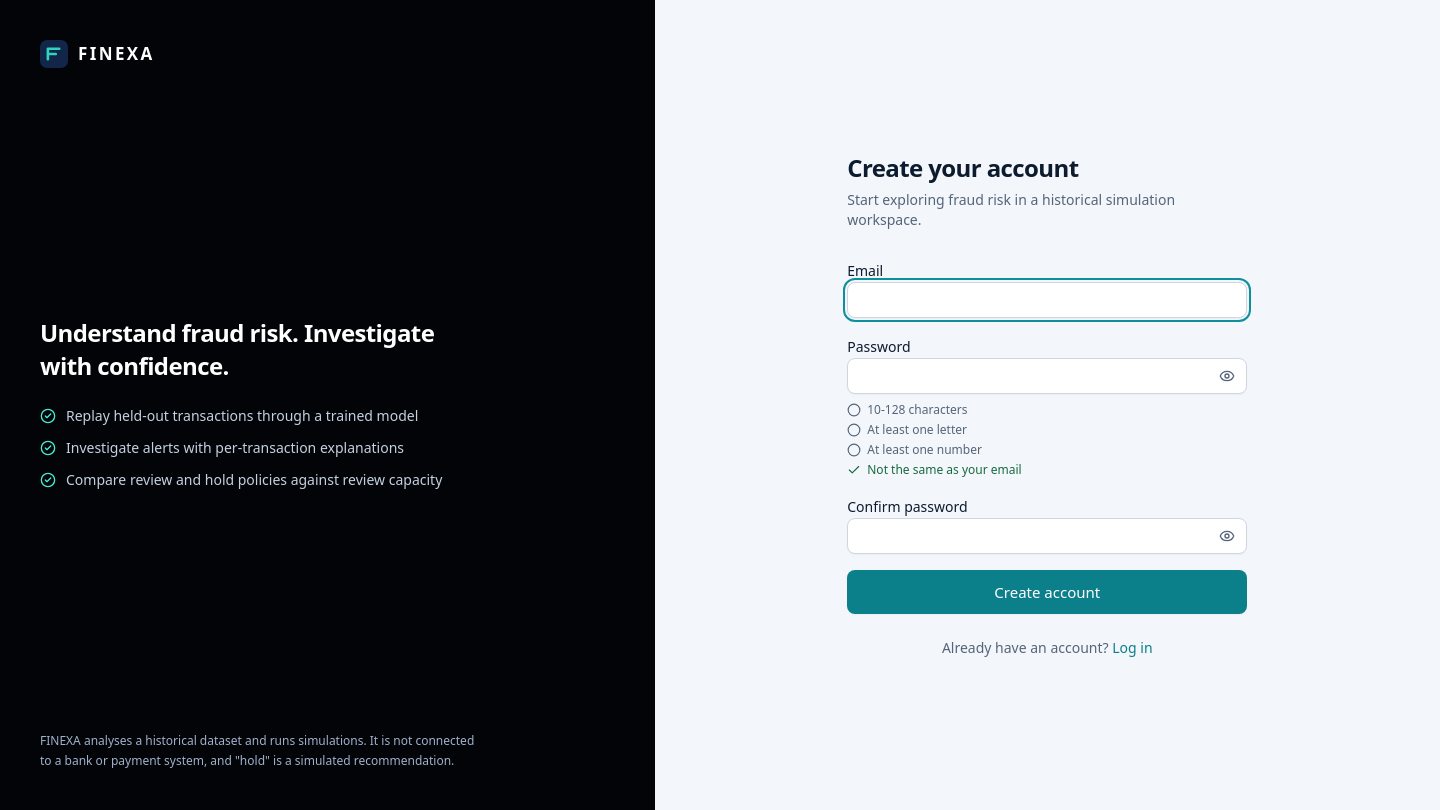
signup form › maps a duplicate email to the email field, with a link to log in
Type "ana@example.com" into the field labelled "Email" at (1047, 300), box [847,282,1247,318]
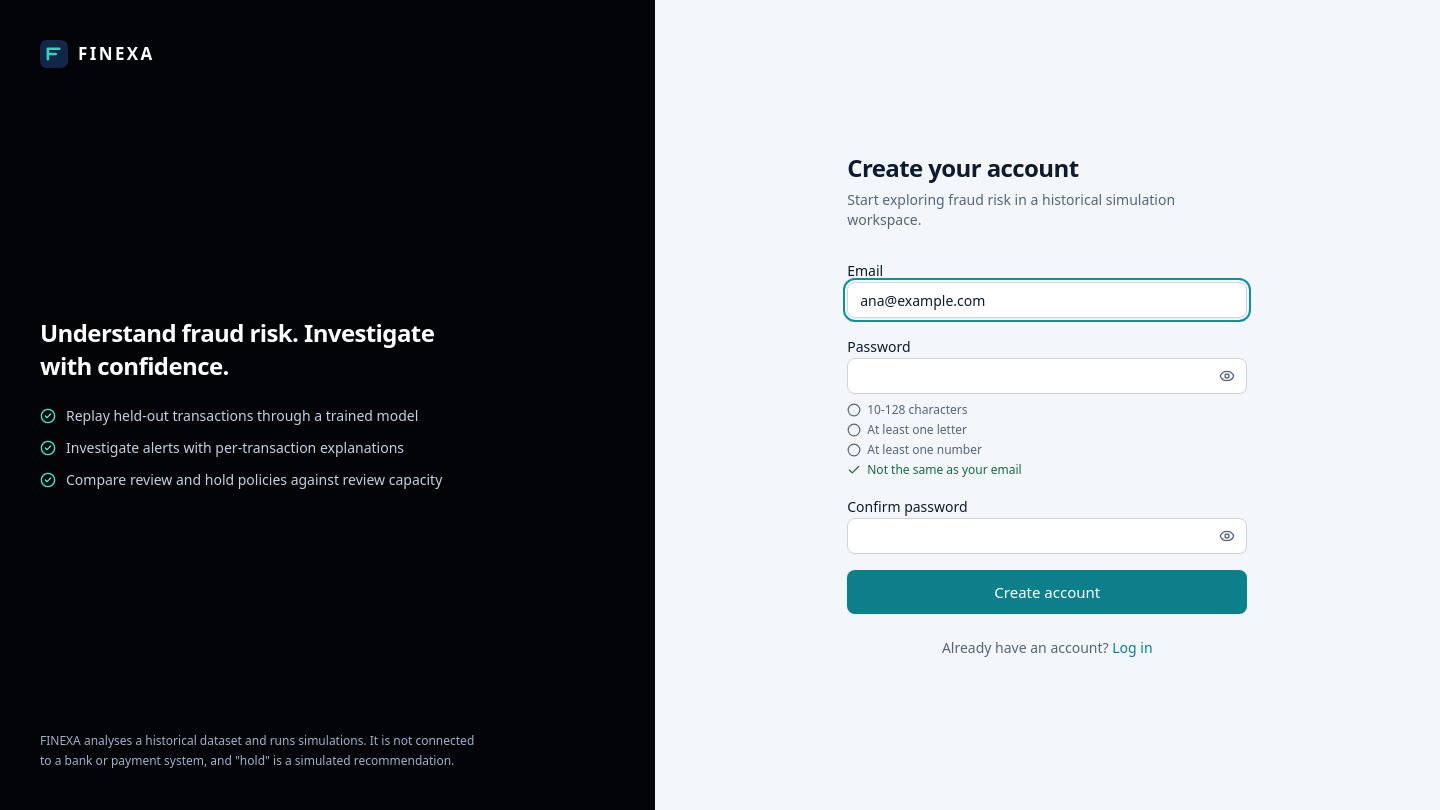
Type "correct horse 42" into the password field labelled "Password" at (1047, 376), box [847,358,1247,394]
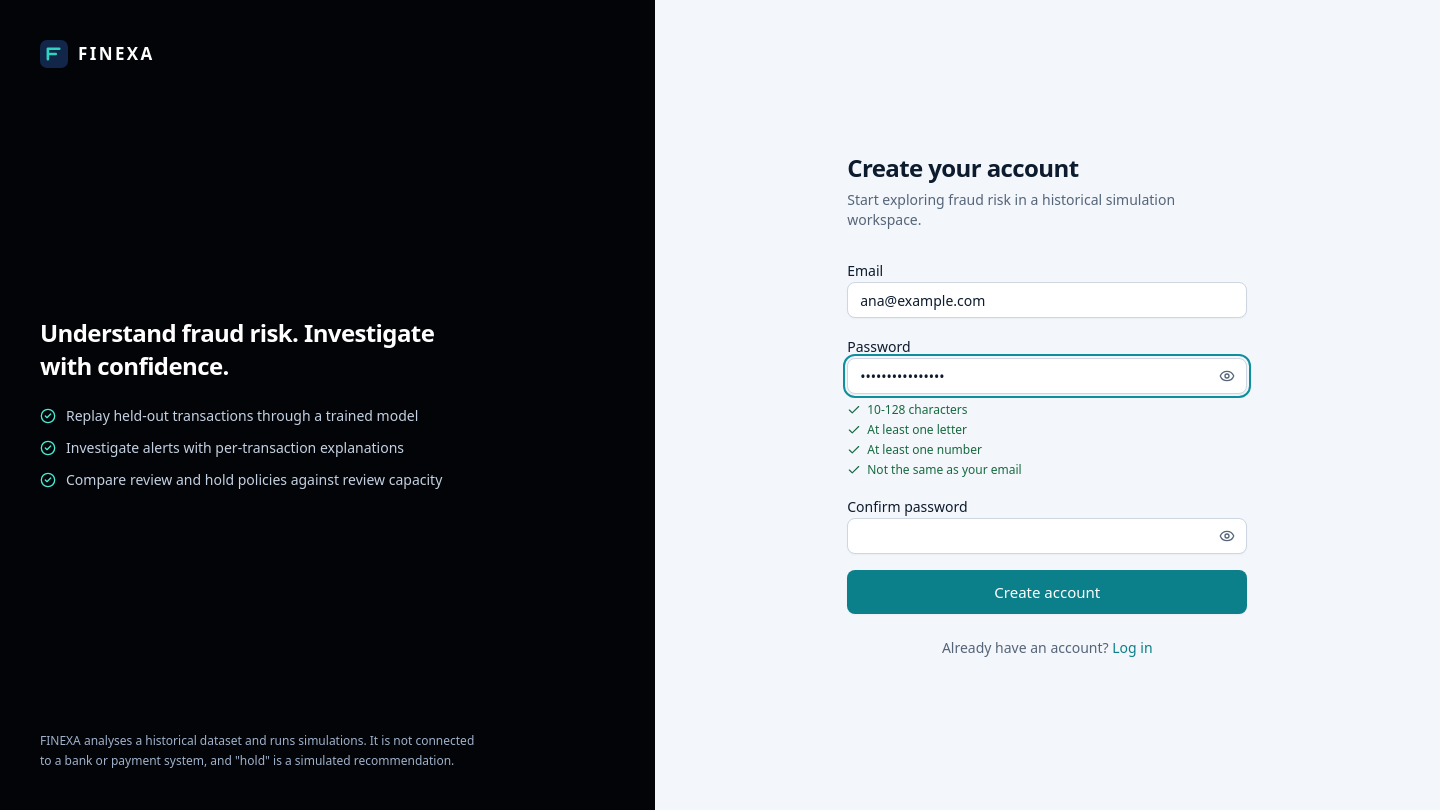
Type "correct horse 42" into the password field labelled "Confirm password" at (1047, 536), box [847,518,1247,554]
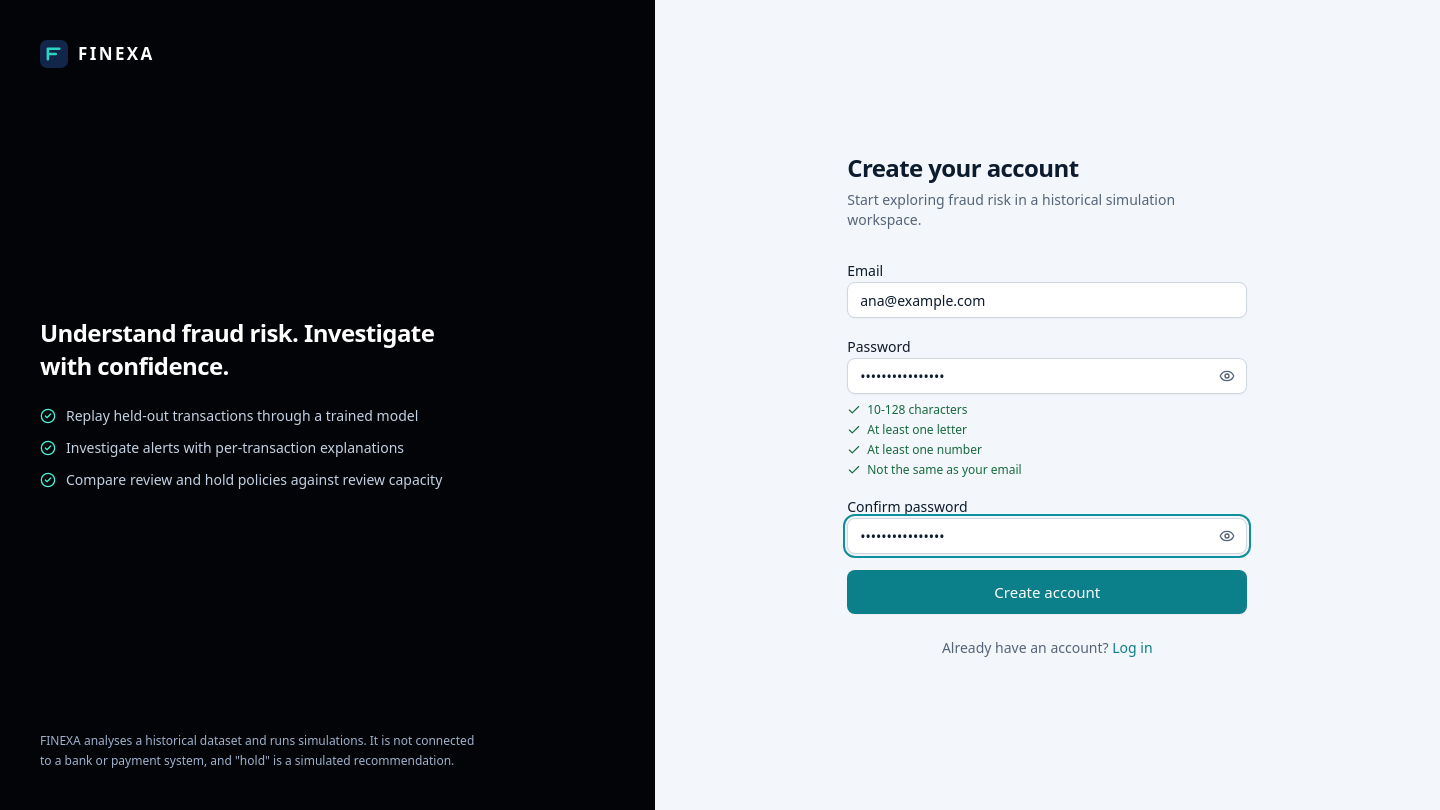
Click the button "Create account" at (1047, 592), box [847,570,1247,614]
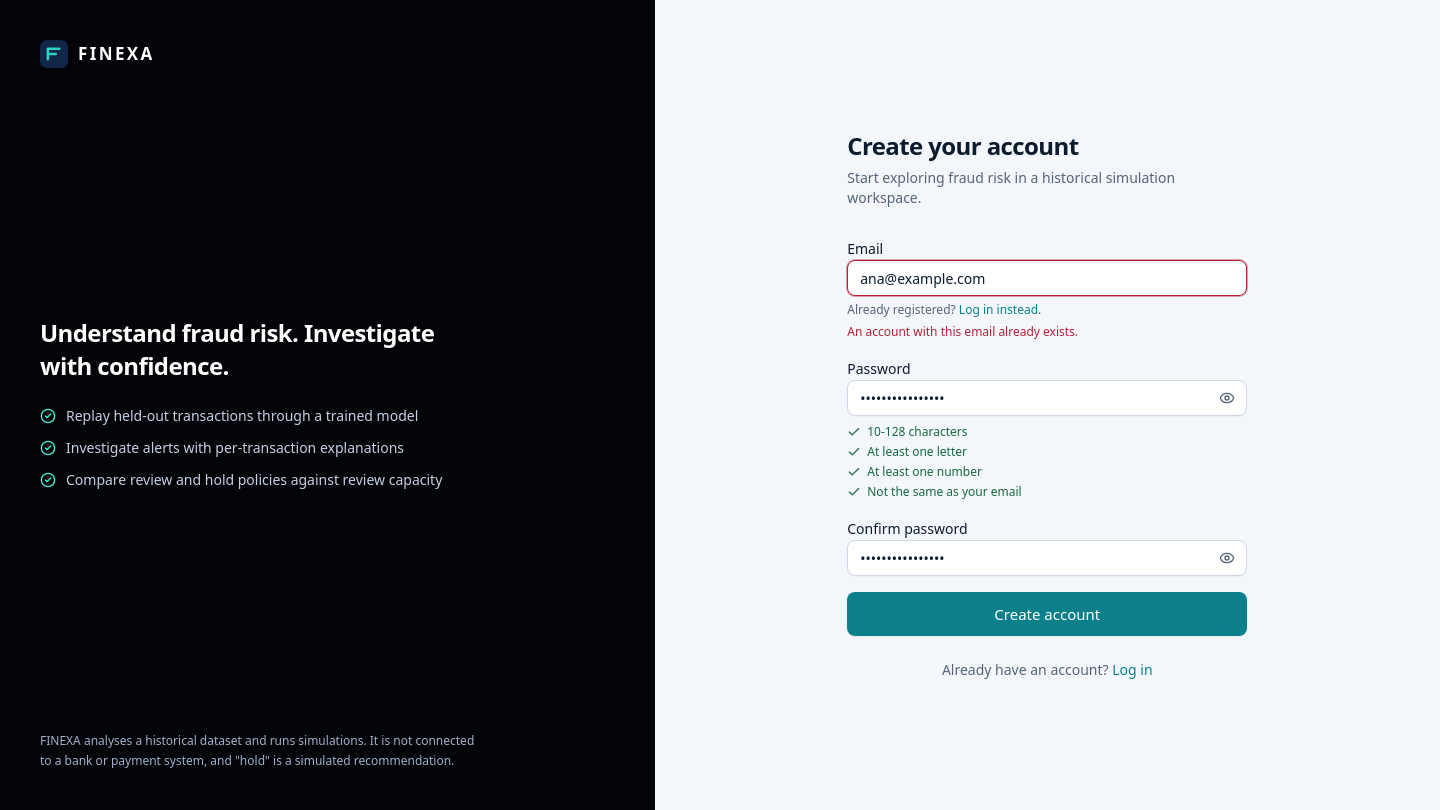
expect the text "An account with this email already exists." is shown: met, box [847,323,1078,340]
expect the link "Log in instead" is shown: met, box [959,301,1038,318]
